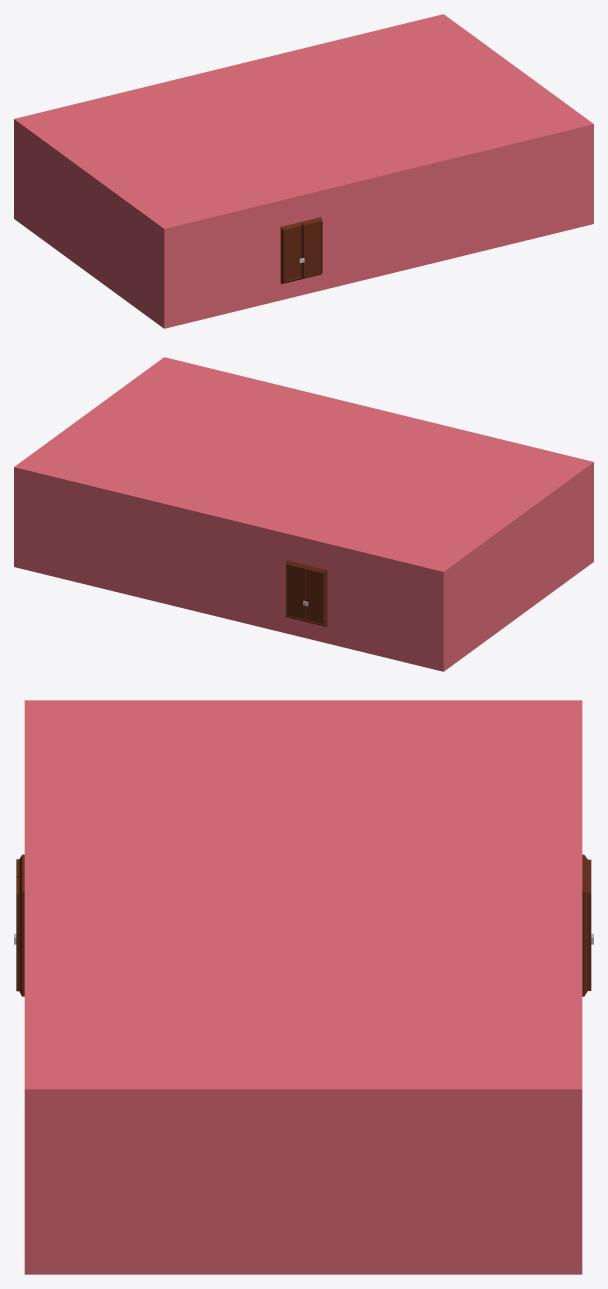
Rendered from sala01.fbx.
3 renders of one model, top to bottom at view 1: azimuth 30°, elevation 25°; view 2: azimuth 150°, elevation 25°; view 3: azimuth 270°, elevation 25°, orthographic. The views are drawn at different scales.
Visible parts, largest first — view 1: sala de miniGame.002, portaesq.019, portaesq.018; view 2: sala de miniGame.002, portaesq.021, portaesq.020; view 3: sala de miniGame.002, portaesq.020, portaesq.018.
Boxes of the visible parts, x1,y1,x2,y2 form: sala de miniGame.002: (14,14,593,328); portaesq.019: (280,222,302,283); portaesq.018: (299,217,322,278); sala de miniGame.002: (14,357,593,671); portaesq.021: (304,565,327,626); portaesq.020: (286,560,308,621); sala de miniGame.002: (24,700,582,1274); portaesq.020: (582,873,593,996); portaesq.018: (14,873,24,996).
Bounding box in the file's own units: 2476 × 550 × 1560.
